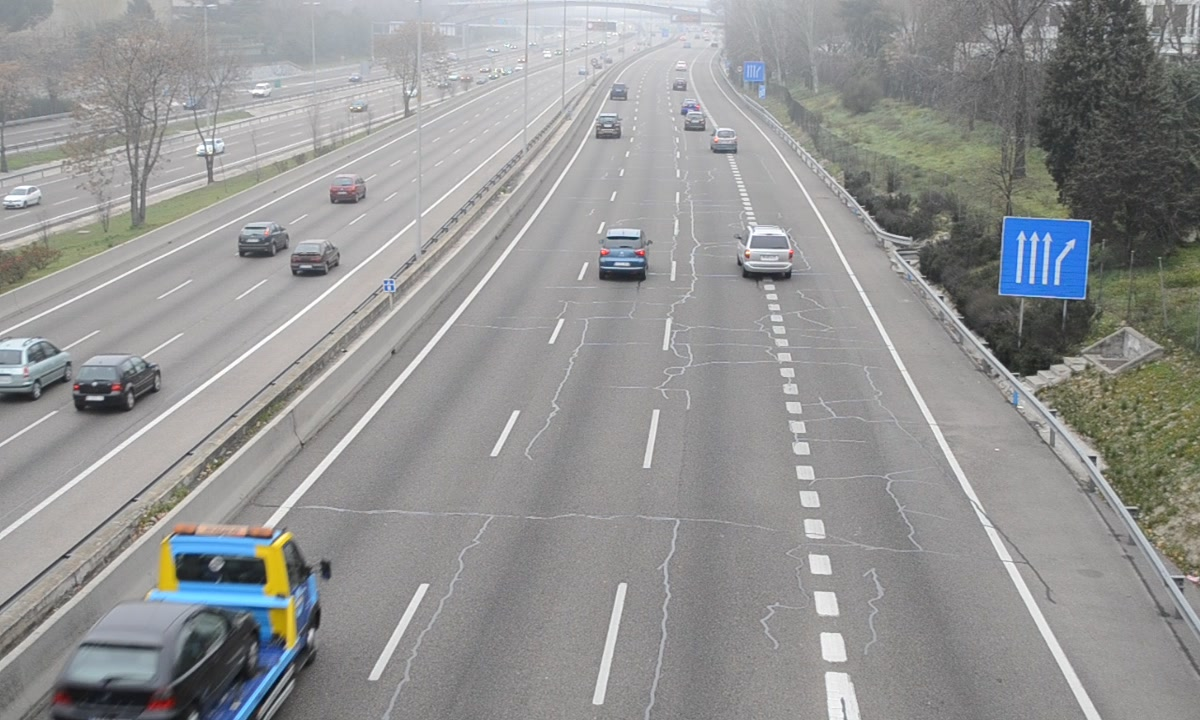car: (737, 226, 794, 276), (598, 230, 648, 279), (594, 112, 622, 141), (711, 127, 739, 154)
small-truck: (41, 523, 324, 720)
